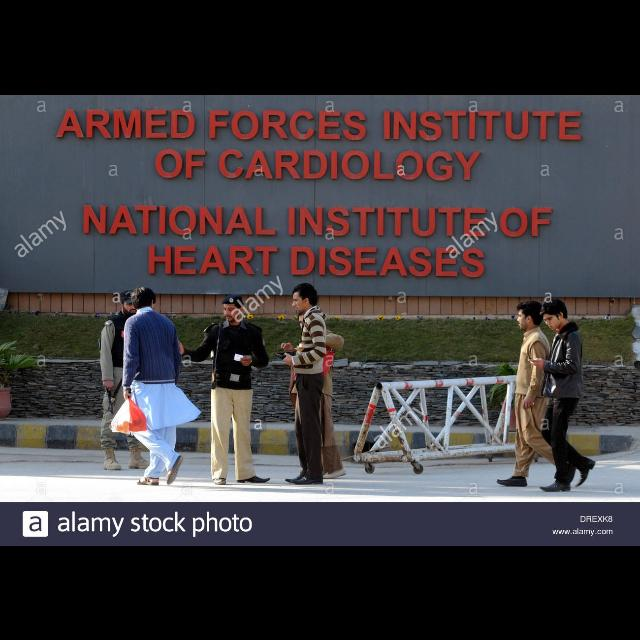head: (540, 297, 568, 331), (516, 300, 544, 332), (292, 282, 318, 314), (131, 285, 157, 313), (224, 294, 244, 322), (120, 289, 138, 315), (298, 310, 318, 332)
person: (171, 292, 273, 486), (109, 285, 203, 487), (493, 298, 581, 490), (524, 294, 598, 492), (96, 288, 160, 470), (273, 279, 329, 486), (289, 306, 349, 482)
